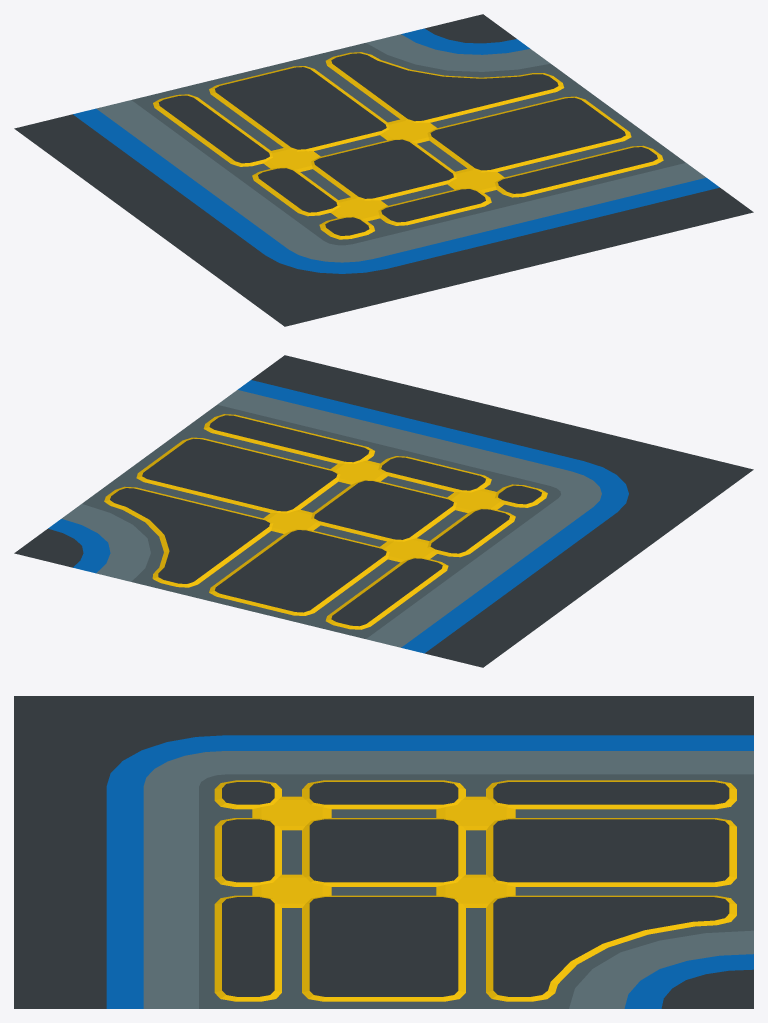
File: Floor_type_C_016.fbx
3 views of the same model, one above another, from view 1: azimuth 30°, elevation 25°; view 2: azimuth 150°, elevation 25°; view 3: azimuth 270°, elevation 25° (orthographic). The views are drawn at different scales.
Parts seen in each view (by area): view 1: Floor_type_C_016; view 2: Floor_type_C_016; view 3: Floor_type_C_016.
Part boxes in pixels (left/top/right/bottom): Floor_type_C_016: left=14, top=14, right=753, bottom=326; Floor_type_C_016: left=14, top=355, right=753, bottom=667; Floor_type_C_016: left=14, top=696, right=753, bottom=1008.
Bounding box in the file's own units: 400 × 400 × 1.34.
